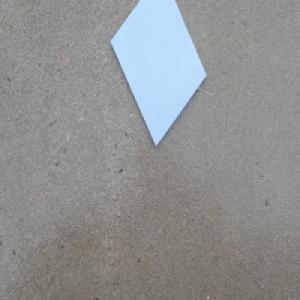PaintChip: (110, 0, 208, 147)
